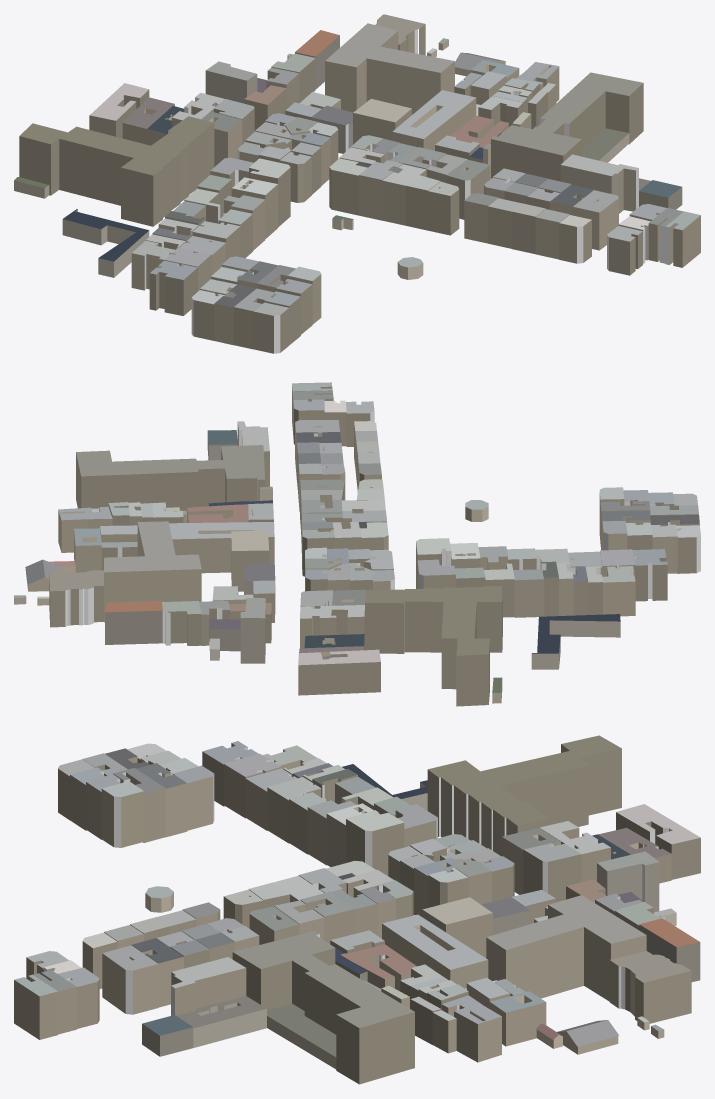
The picture shows the model from 3 angles, top to bottom: view 1: azimuth 30°, elevation 25°; view 2: azimuth 150°, elevation 25°; view 3: azimuth 270°, elevation 25°; orthographic projection. The views are drawn at different scales.
Parts seen in each view (by area): view 1: tuile; view 2: tuile; view 3: tuile.
Part boxes in pixels (bbox=[...]): tuile: bbox=[14, 14, 700, 353]; tuile: bbox=[14, 382, 700, 706]; tuile: bbox=[14, 735, 700, 1084].
Bounding box in the file's own units: 288 × 31.11 × 270.
